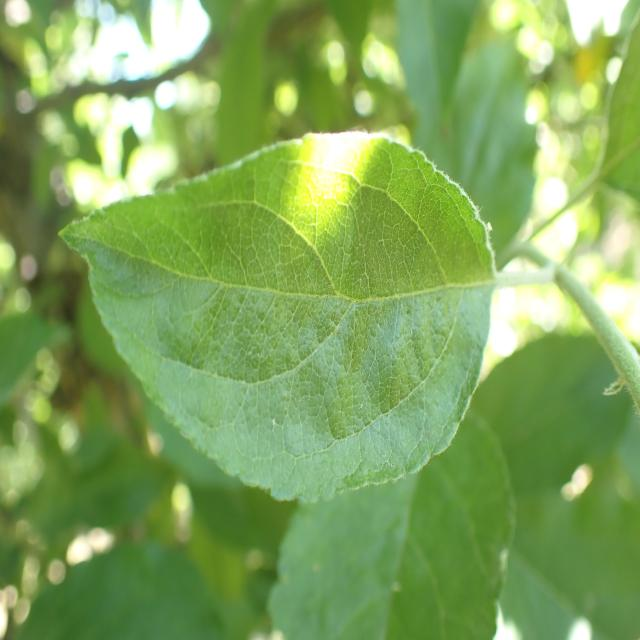healthy: (57, 130, 497, 504), (267, 414, 516, 640)
